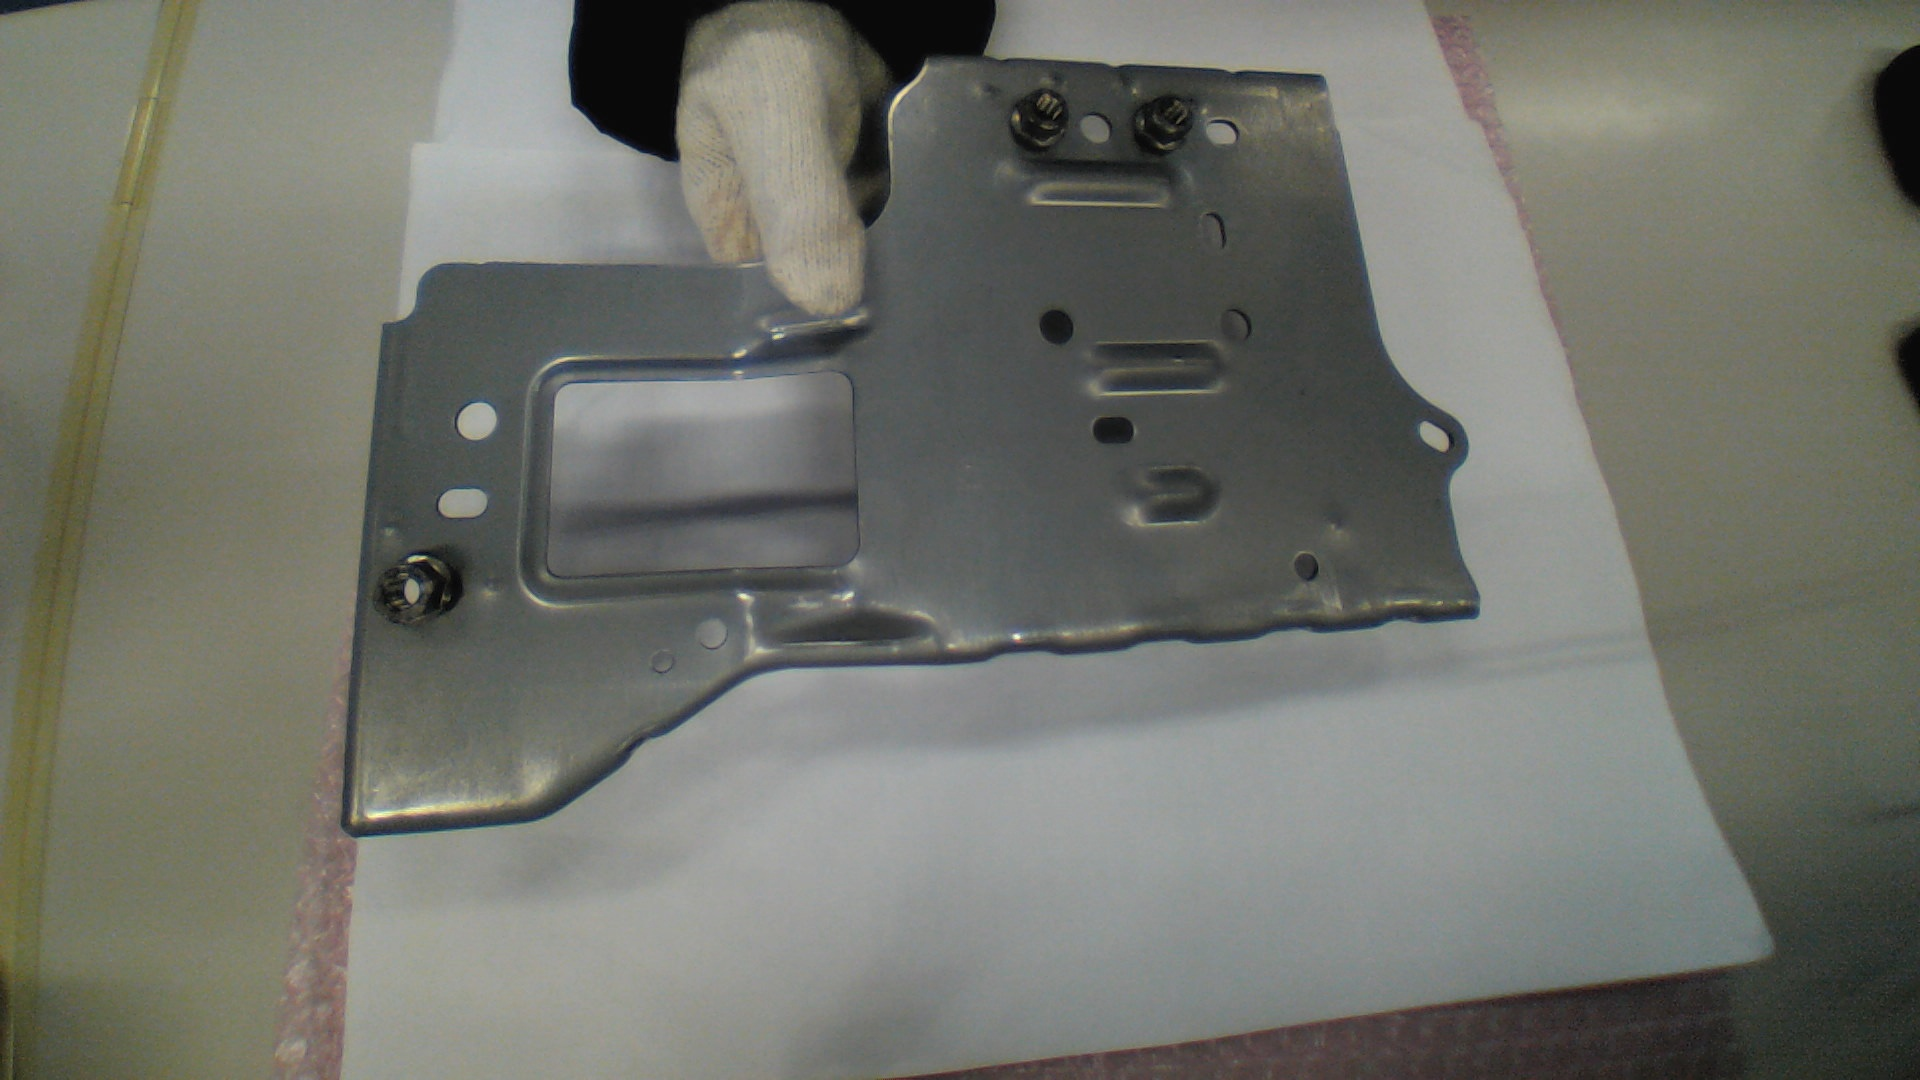dog: (375, 549, 464, 626), (1131, 95, 1196, 156), (1011, 90, 1071, 152)
